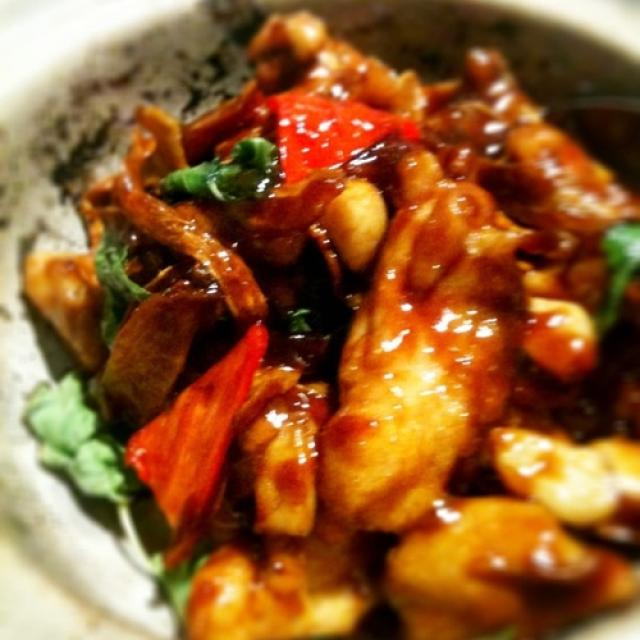鸡肉料理 含炸鸡: (19, 21, 630, 624)
